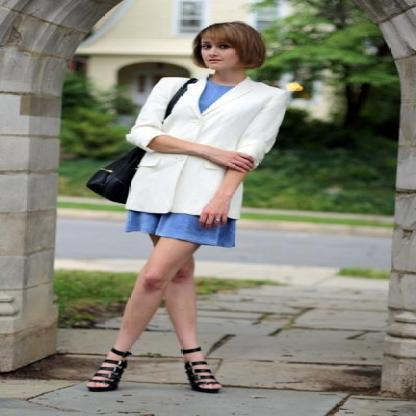dress: (127, 80, 235, 247)
jacket: (125, 75, 284, 218)
shirt: (164, 92, 184, 118)
shoe: (89, 348, 220, 393)
